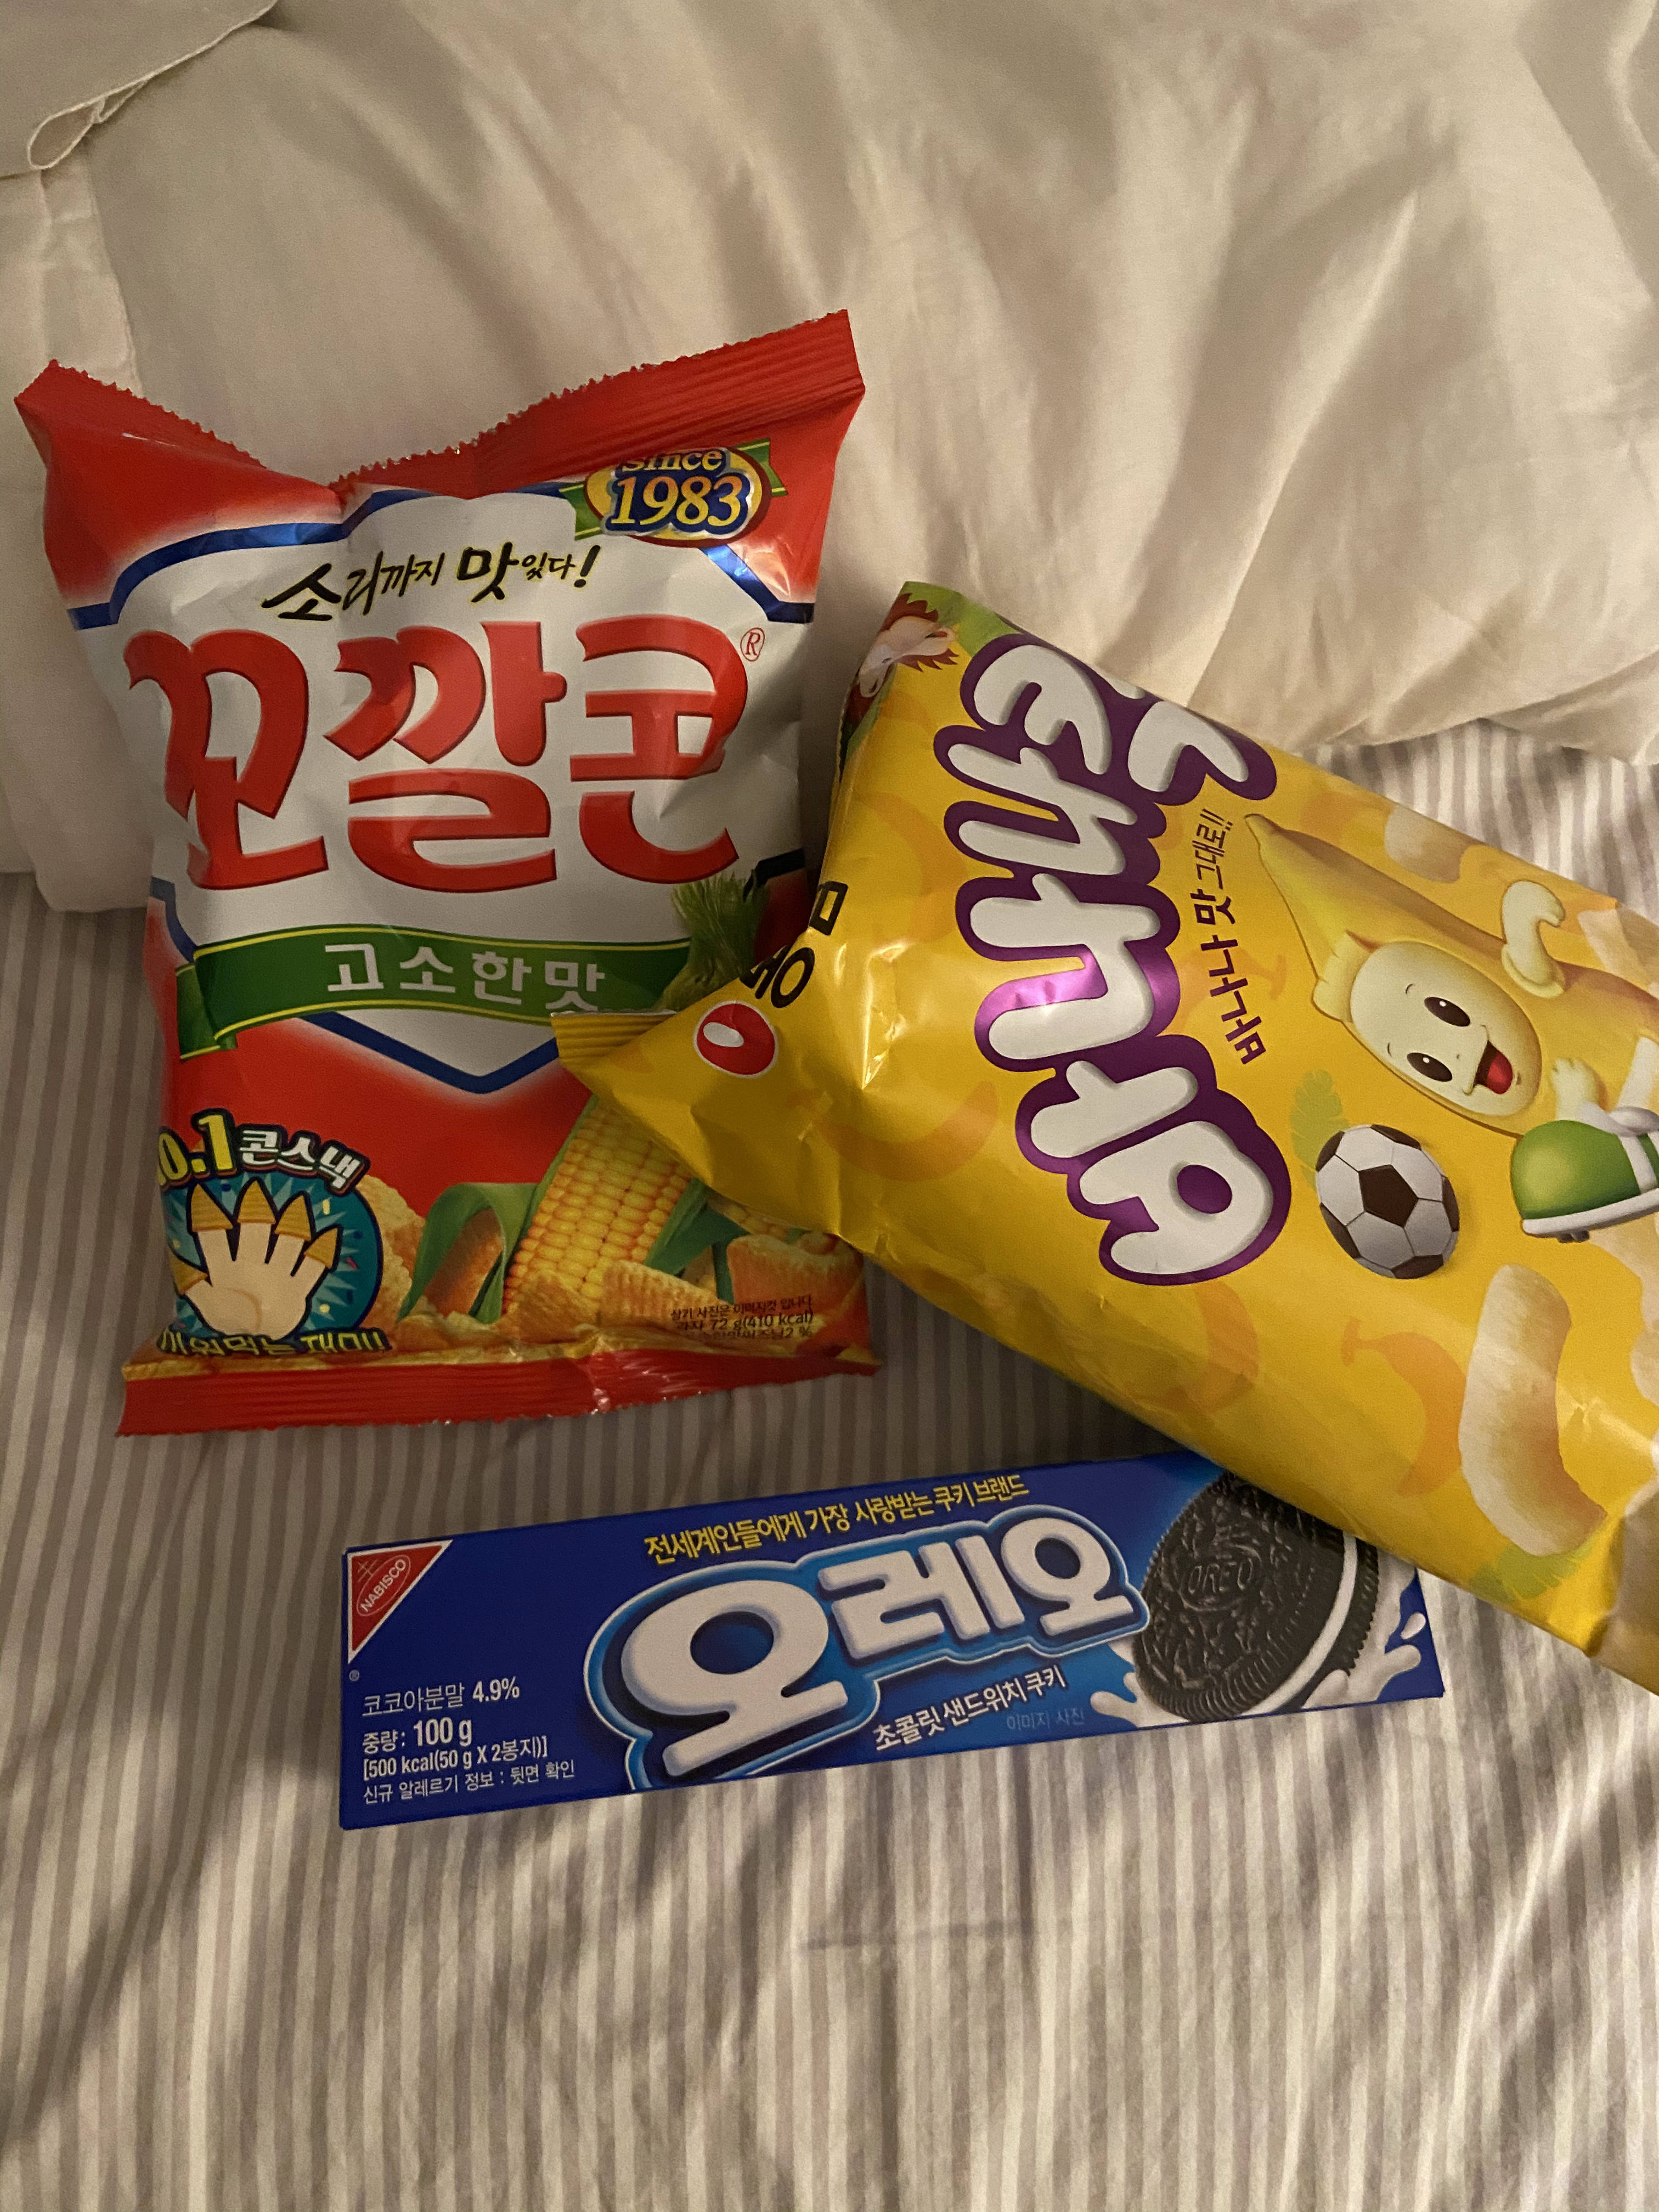banana: (542, 563, 1659, 1721)
ggoggalcon: (10, 296, 890, 1449)
oreo: (322, 1420, 1467, 1848)
